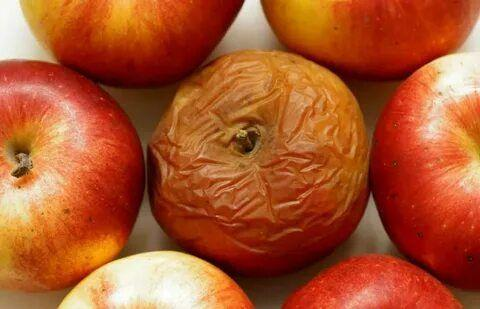Apple: (147, 50, 368, 272)
